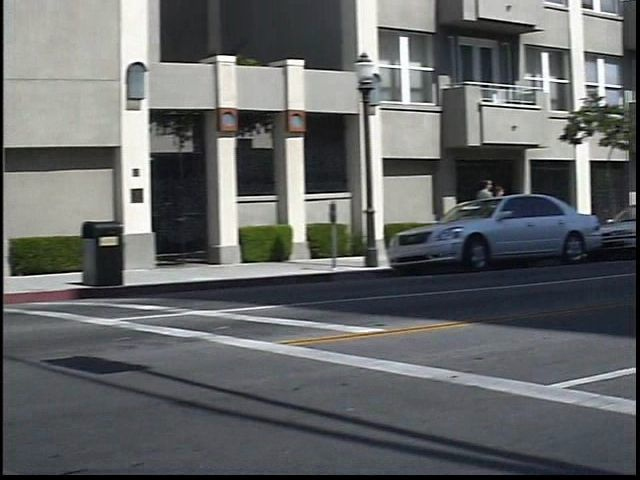person: (485, 174, 509, 250), (503, 183, 524, 244)
